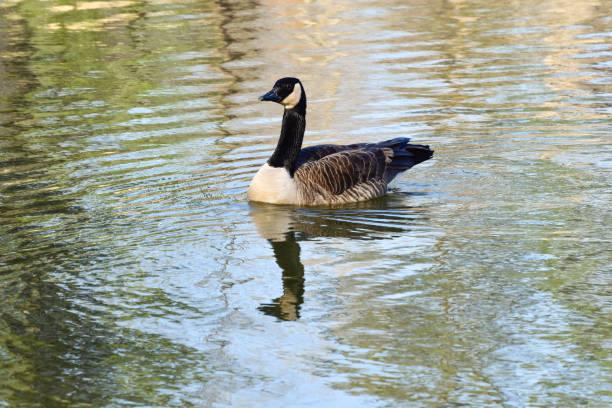Canadian-Goose: (247, 75, 432, 201)
